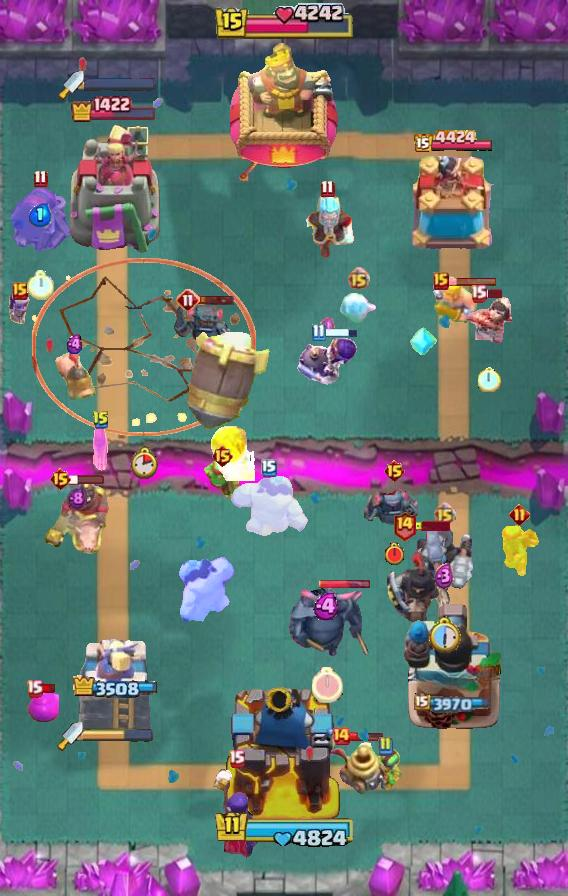archer: (428, 279, 478, 323)
axe: (212, 767, 260, 857)
bar: (67, 122, 161, 256), (77, 637, 151, 731)
bat: (339, 293, 377, 327)
battle-ram: (173, 299, 233, 349), (364, 488, 424, 528)
clock: (210, 809, 358, 851), (213, 3, 355, 43)
electro-spirit: (314, 592, 343, 619), (29, 203, 52, 227), (434, 562, 454, 589), (67, 486, 87, 511), (65, 334, 85, 355), (320, 315, 336, 336)
elixir: (427, 616, 461, 654), (313, 667, 343, 703), (130, 446, 158, 478), (27, 270, 54, 300), (478, 366, 501, 392), (383, 542, 405, 566)
emote: (446, 276, 498, 287), (319, 579, 371, 590), (198, 294, 235, 306), (69, 473, 105, 485), (348, 730, 383, 742), (323, 327, 358, 338), (414, 521, 450, 531), (484, 288, 504, 300), (39, 682, 57, 693)
executioner: (54, 352, 96, 402)
freeze: (41, 479, 113, 557)
giant-snowball: (499, 524, 539, 578), (361, 748, 409, 792), (202, 458, 242, 504)
goblin: (91, 423, 111, 473), (7, 290, 33, 326)
goblin-ball: (297, 334, 359, 386)
goblin-drill: (327, 741, 389, 797)
golemite: (285, 588, 369, 662)
guard: (32, 259, 256, 438)
inferno-dragon: (385, 524, 451, 630), (413, 525, 475, 615)
king-tower: (223, 680, 345, 826), (230, 43, 338, 181)
king-tower-bar: (84, 77, 156, 91), (83, 729, 153, 743)
miner: (27, 692, 59, 722)
mortar: (298, 188, 356, 260)
pad_2: (409, 324, 437, 358)
queen-tower: (407, 156, 499, 256)
rage: (228, 473, 310, 545), (177, 557, 237, 629)
royal-giant-evolution: (6, 184, 74, 254)
selected: (70, 95, 158, 123), (414, 129, 495, 155), (71, 675, 157, 699), (414, 693, 494, 713)
skeleton-dragon: (463, 294, 515, 346)
text: (392, 511, 417, 542), (176, 288, 200, 312), (347, 266, 370, 290), (210, 444, 233, 468), (383, 459, 406, 483), (49, 467, 72, 491), (432, 503, 455, 526), (509, 504, 531, 525), (331, 726, 351, 746), (92, 410, 110, 430), (25, 679, 43, 697), (227, 749, 245, 767), (377, 736, 393, 756), (469, 285, 486, 303), (433, 272, 449, 290), (12, 282, 28, 300), (261, 459, 277, 477), (33, 169, 48, 188), (321, 178, 335, 197), (311, 323, 325, 342)
tower-bar: (403, 601, 503, 731)
valkyrie: (207, 425, 255, 481)
x-bow: (185, 332, 270, 431)
